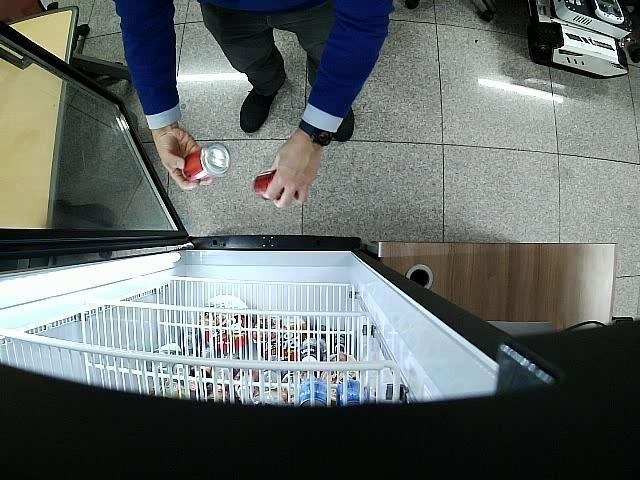11_cocaColaZero: (181, 142, 231, 181), (253, 170, 284, 200)
